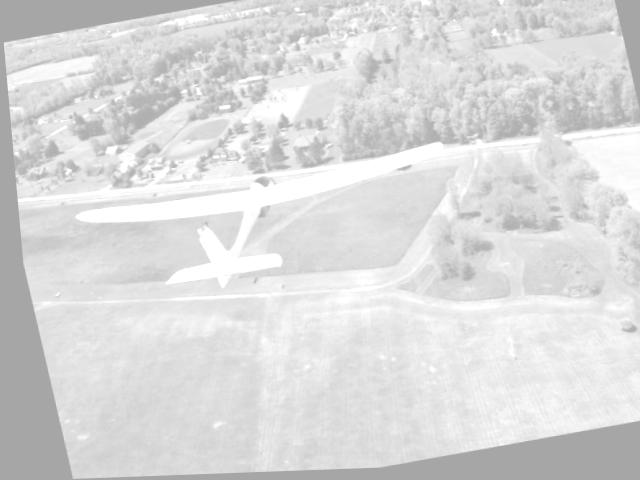hedef: (36, 127, 475, 315)
